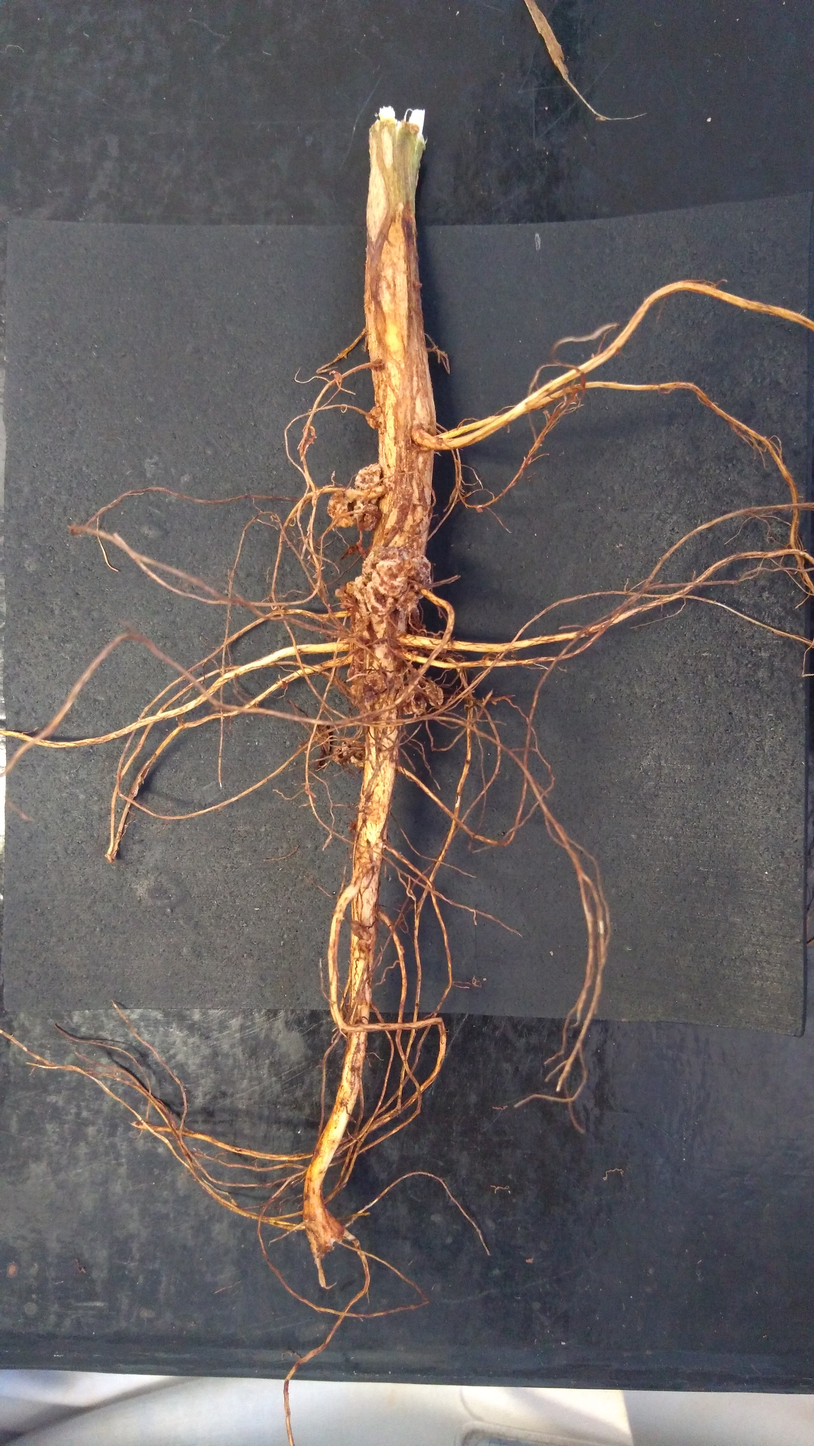nodule: (362, 544, 414, 583), (327, 489, 368, 528), (371, 558, 408, 598), (353, 601, 388, 640), (365, 640, 395, 684), (365, 581, 397, 617), (354, 463, 381, 505), (395, 684, 427, 716), (396, 583, 423, 615), (346, 647, 368, 685), (341, 738, 366, 770), (374, 690, 398, 721), (411, 554, 431, 591), (353, 504, 379, 532), (406, 606, 427, 638), (392, 652, 410, 689), (335, 581, 356, 609), (365, 671, 389, 693), (425, 680, 444, 707), (349, 919, 371, 942), (425, 634, 448, 655), (365, 406, 385, 429), (352, 575, 369, 602), (331, 745, 349, 765), (302, 425, 316, 449), (362, 690, 378, 711), (370, 358, 385, 371), (351, 684, 365, 697), (410, 647, 426, 658), (329, 370, 341, 382), (347, 820, 357, 833)
